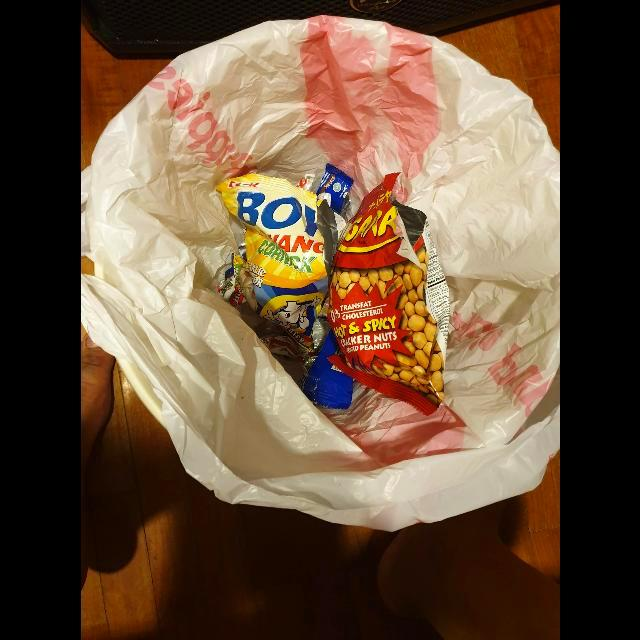food_wrapper: (327, 172, 449, 417), (215, 173, 337, 352), (302, 329, 353, 410), (316, 163, 353, 214), (261, 334, 313, 361), (217, 274, 243, 306)
